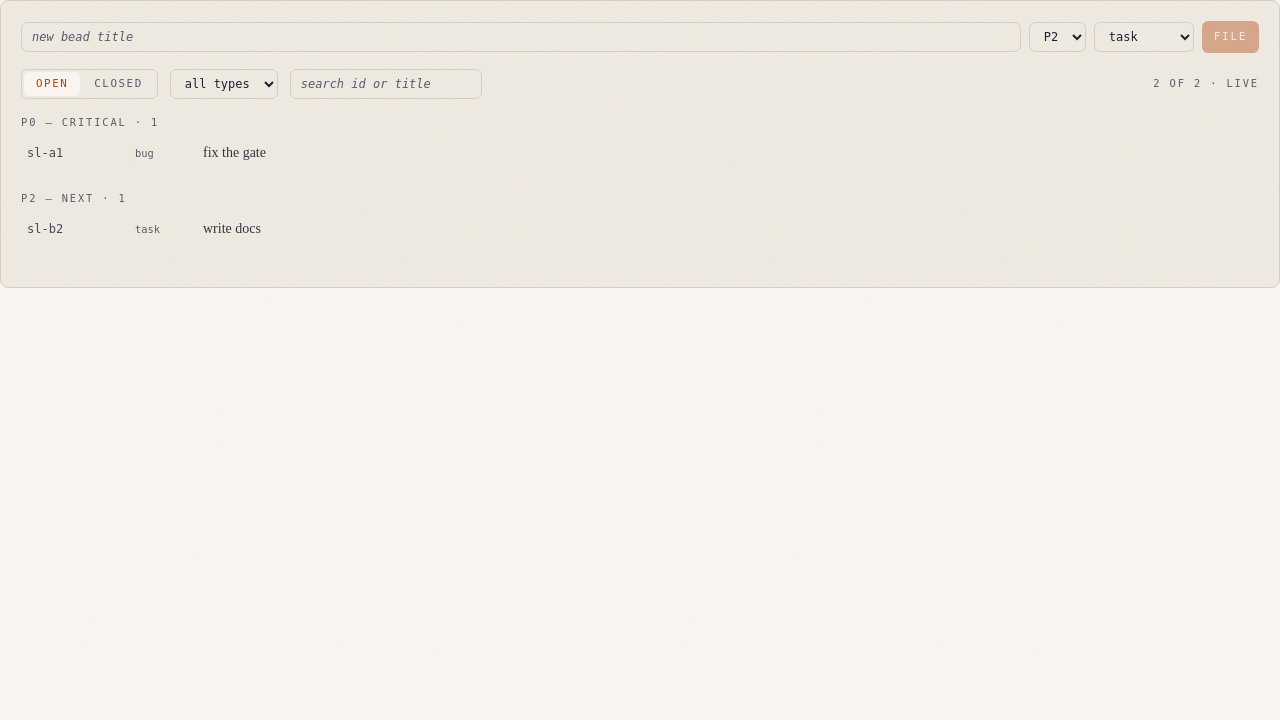
Test: WorkView › opens the drawer on a row click with the bead's detail
Step 1. Click the text "fix the gate" → point(234, 153), box [203,143,266,163]
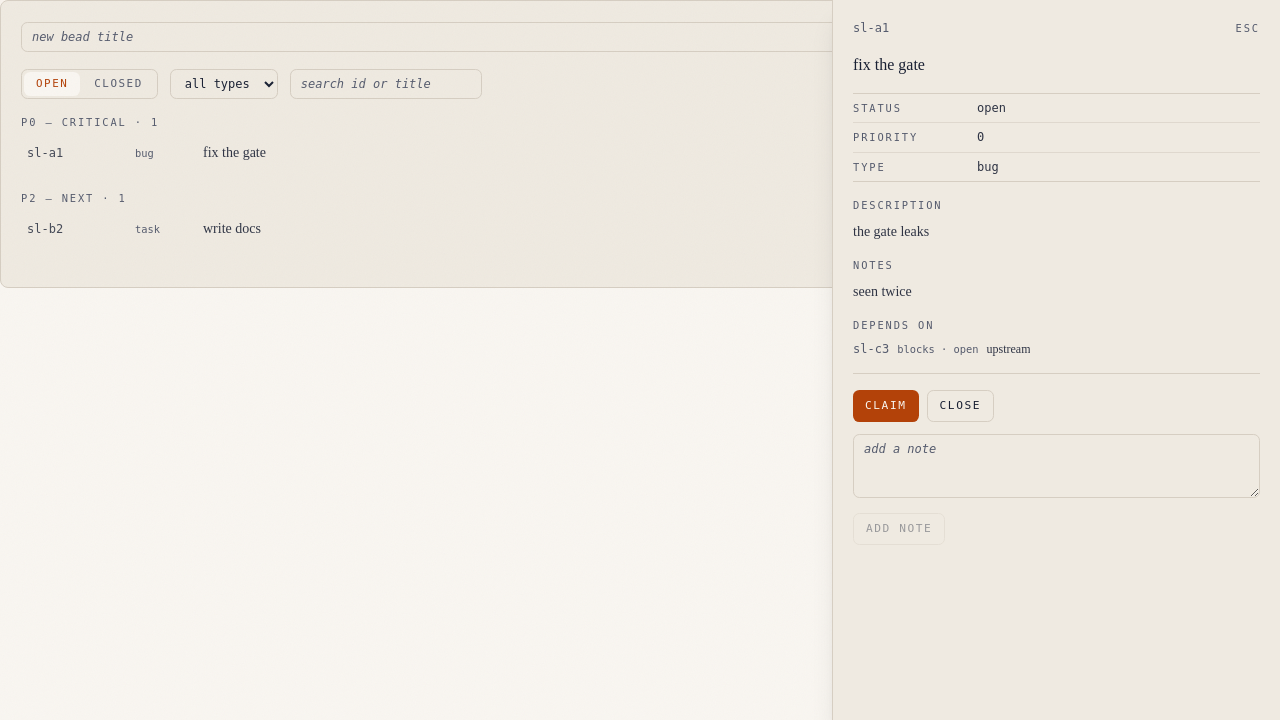
Check: the text "the gate leaks" is shown, box [853,224,929,239]
Check: the text "seen twice" is shown, box [853,284,912,299]
Check: the text "upstream" is shown, box [986,341,1030,357]
